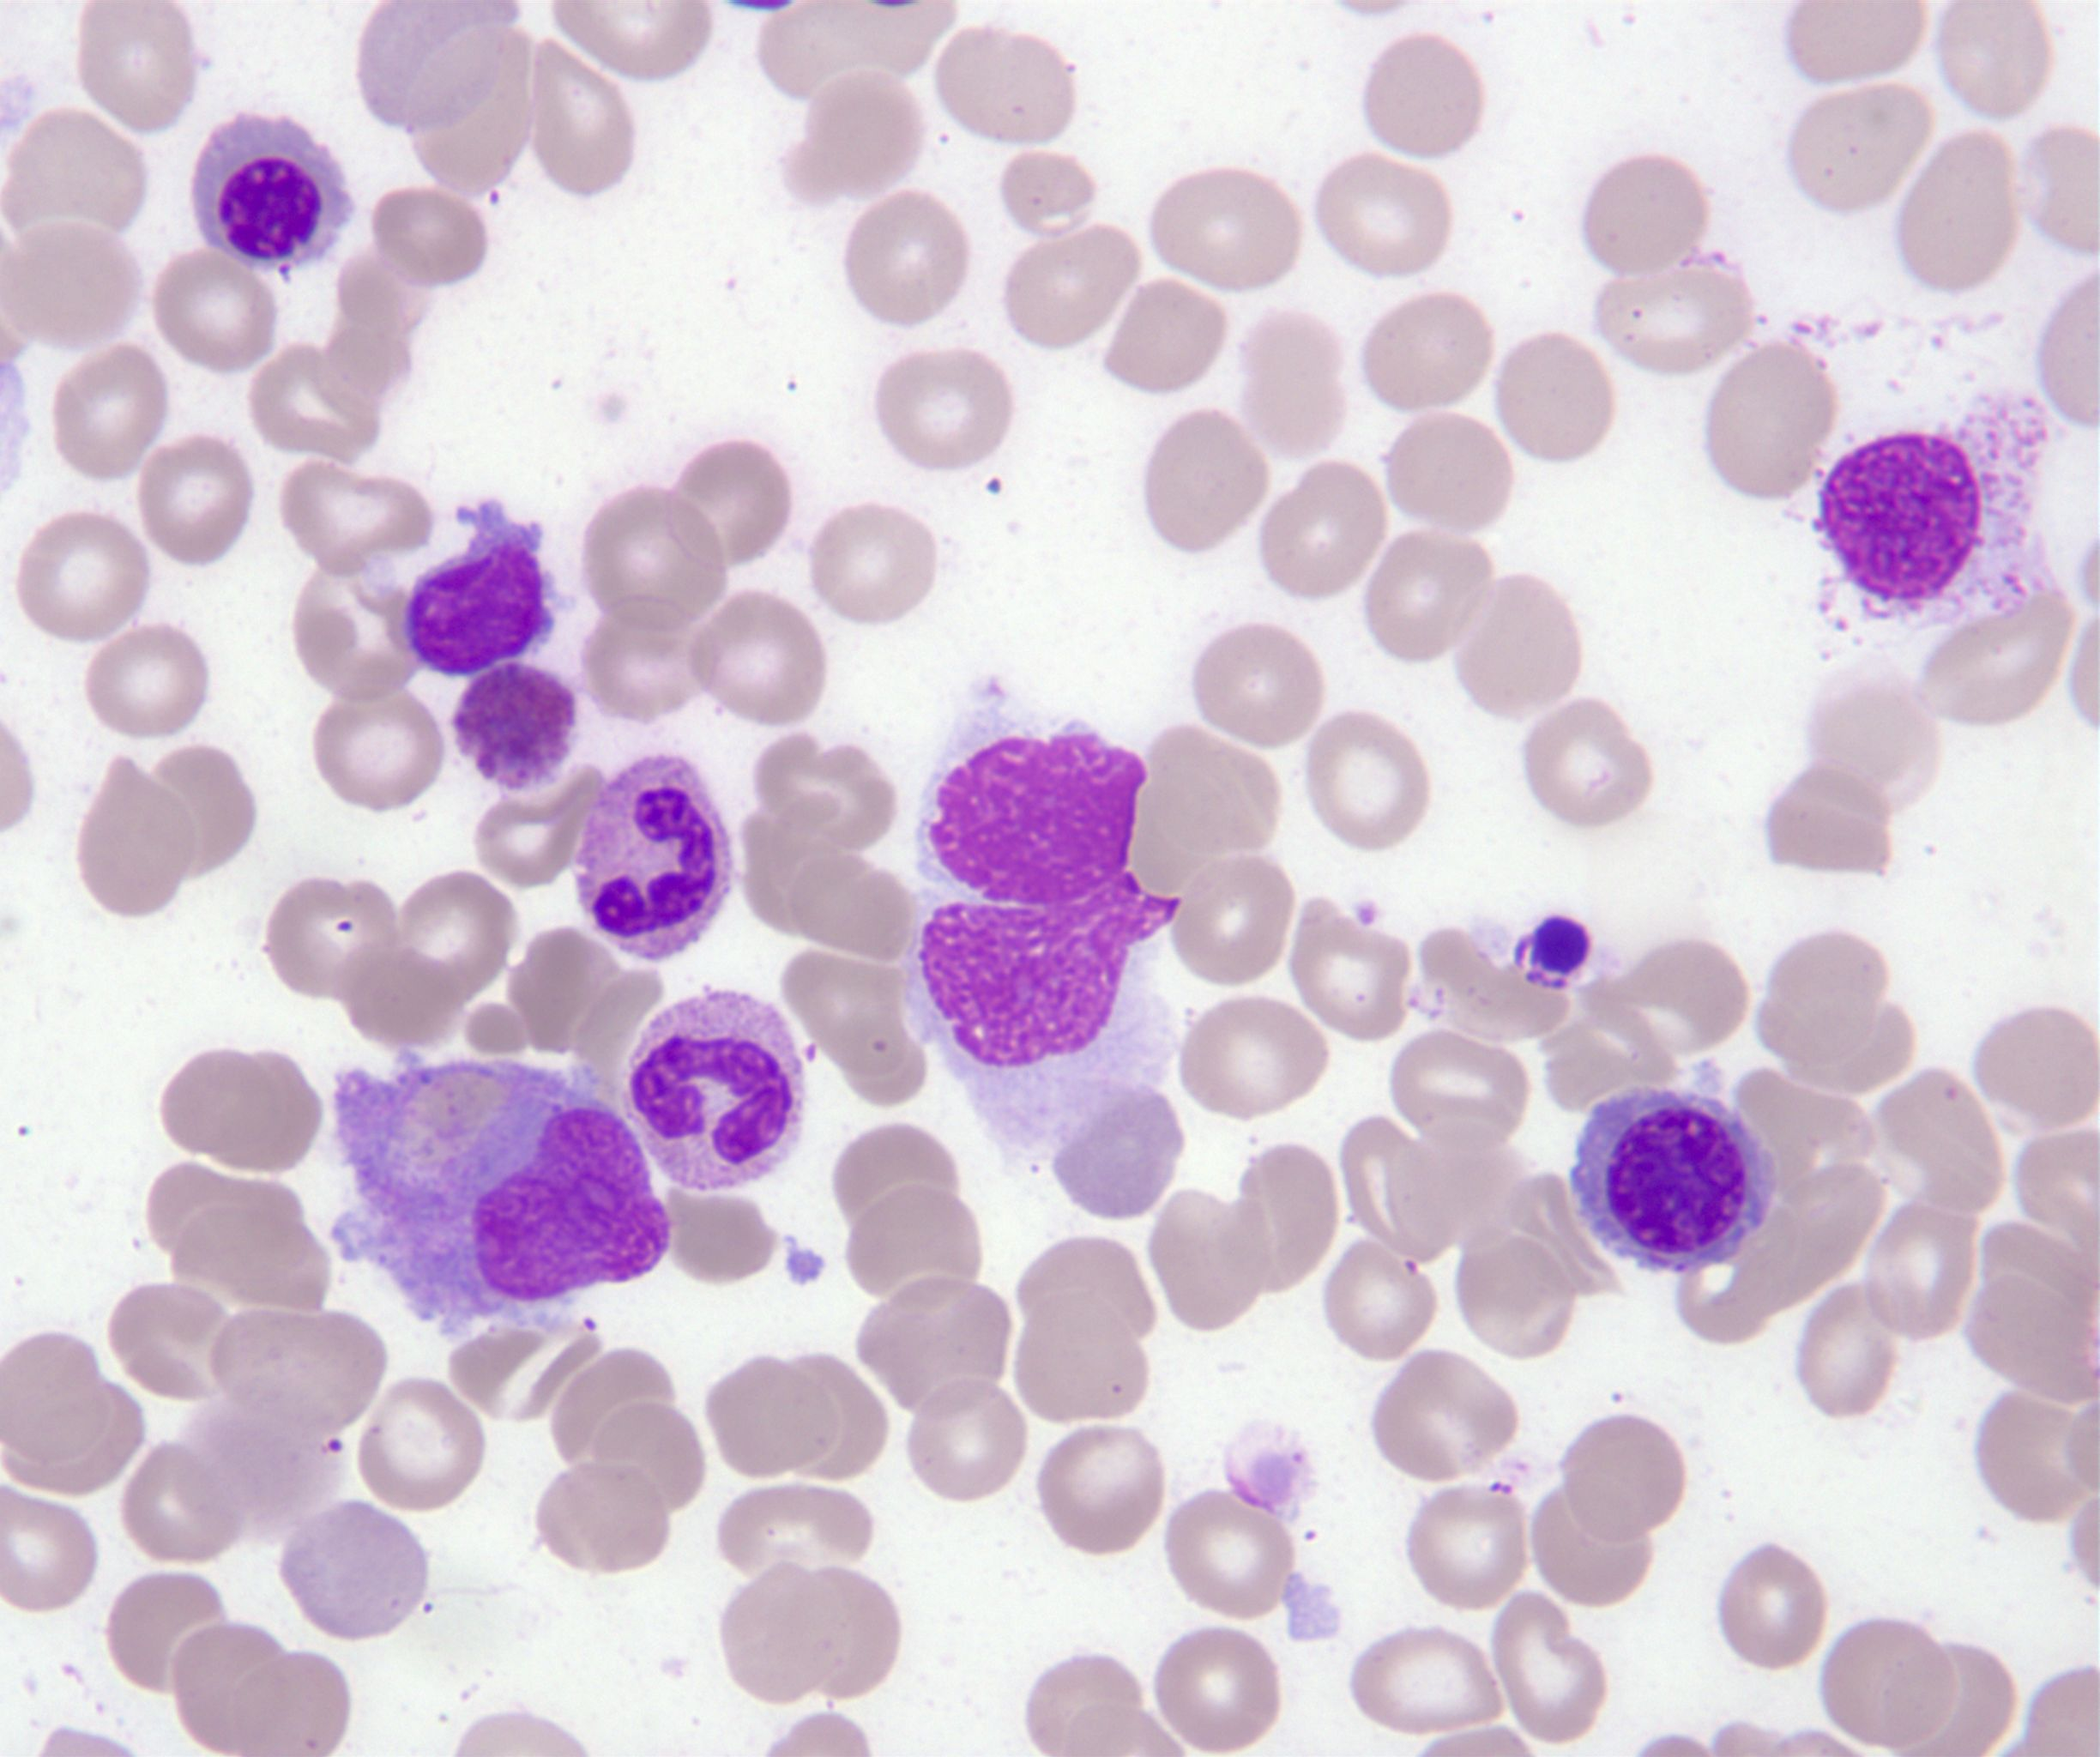23: (1573, 1089, 1772, 1275)
24: (190, 115, 351, 270)
32: (406, 501, 555, 679)
5: (626, 995, 802, 1190), (577, 757, 731, 960)
x: (914, 714, 1183, 1167), (337, 1061, 668, 1333), (1817, 398, 2055, 623)
